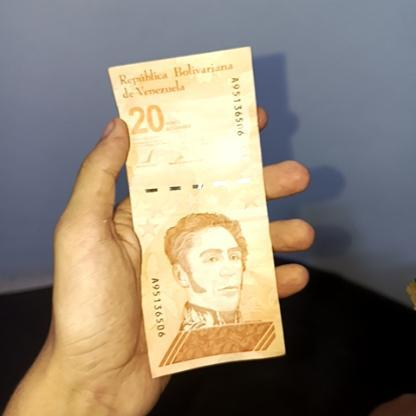twenty-front-vef: (108, 48, 286, 378)
